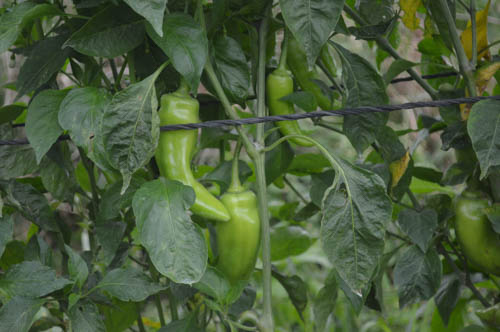ChiliPepper: (158, 94, 231, 226), (215, 191, 264, 284), (454, 196, 498, 275), (270, 75, 312, 148), (290, 46, 325, 109)
